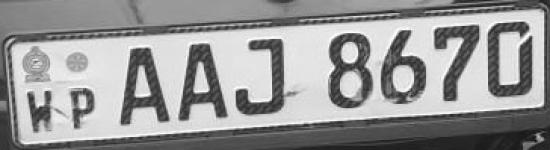0: (482, 19, 538, 100)
6: (380, 24, 430, 110)
7: (434, 20, 482, 106)
8: (322, 30, 379, 113)
A: (112, 42, 173, 128), (176, 40, 231, 125)
J: (235, 33, 289, 119)
P: (65, 85, 96, 130)
W: (23, 85, 59, 134)
